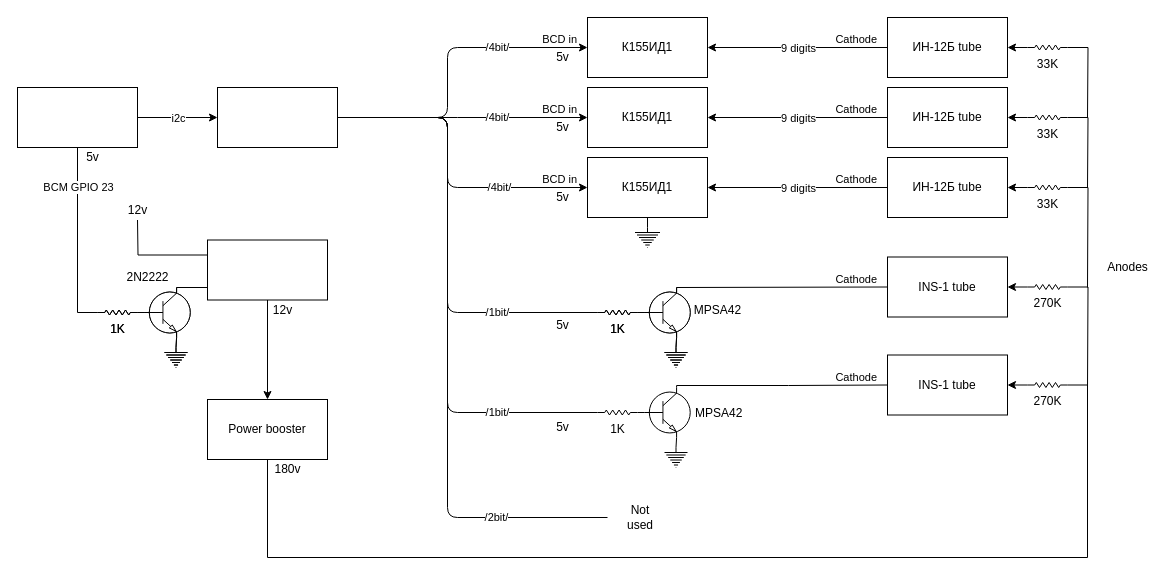
This 1175x576 diagram has some shape labels left out. The box of each missing label's shape, as (x1, y1, x2, y2) in pixels:
MCP23017SP: (216, 86, 338, 148)
Raspberry Pi: (16, 86, 138, 148)
Relay NC: (206, 239, 328, 300)
